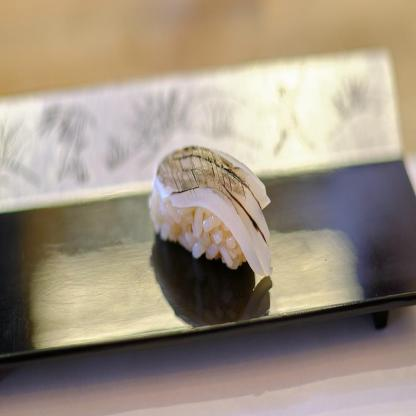ika: (145, 141, 277, 288)
